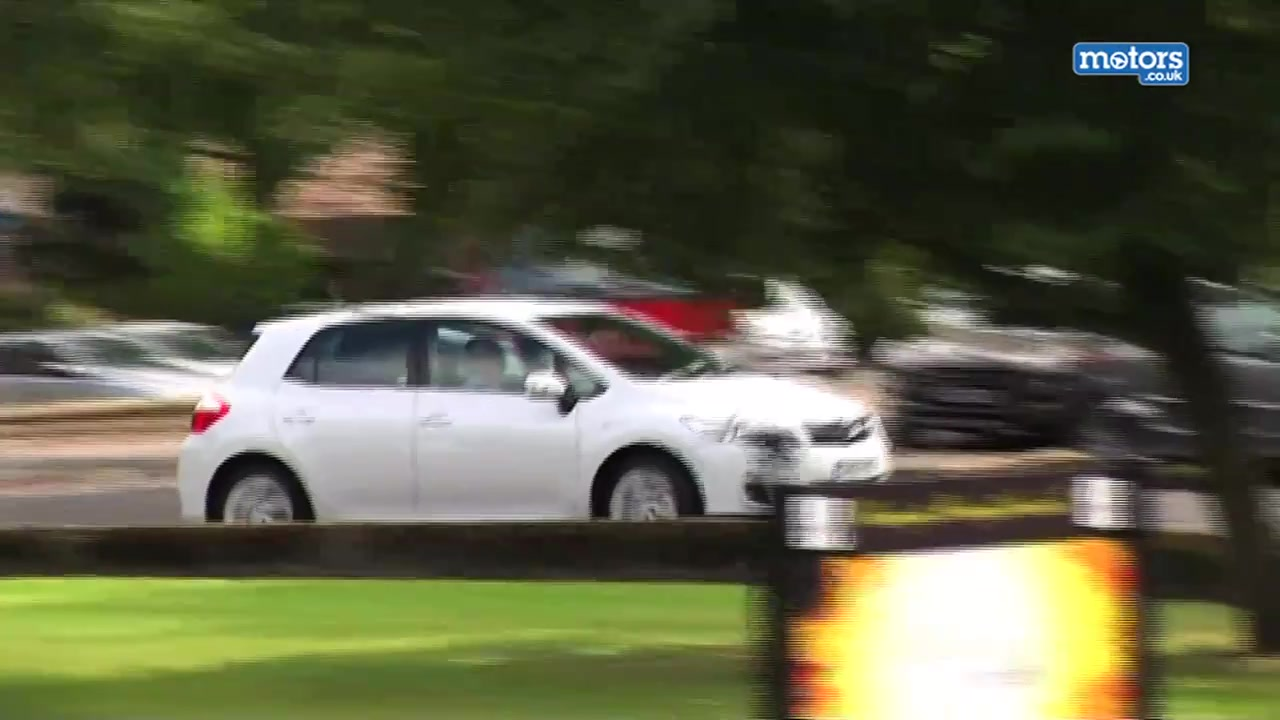car: (179, 305, 898, 532), (869, 279, 1280, 457), (614, 274, 862, 375), (1, 322, 224, 414), (121, 317, 253, 387)
